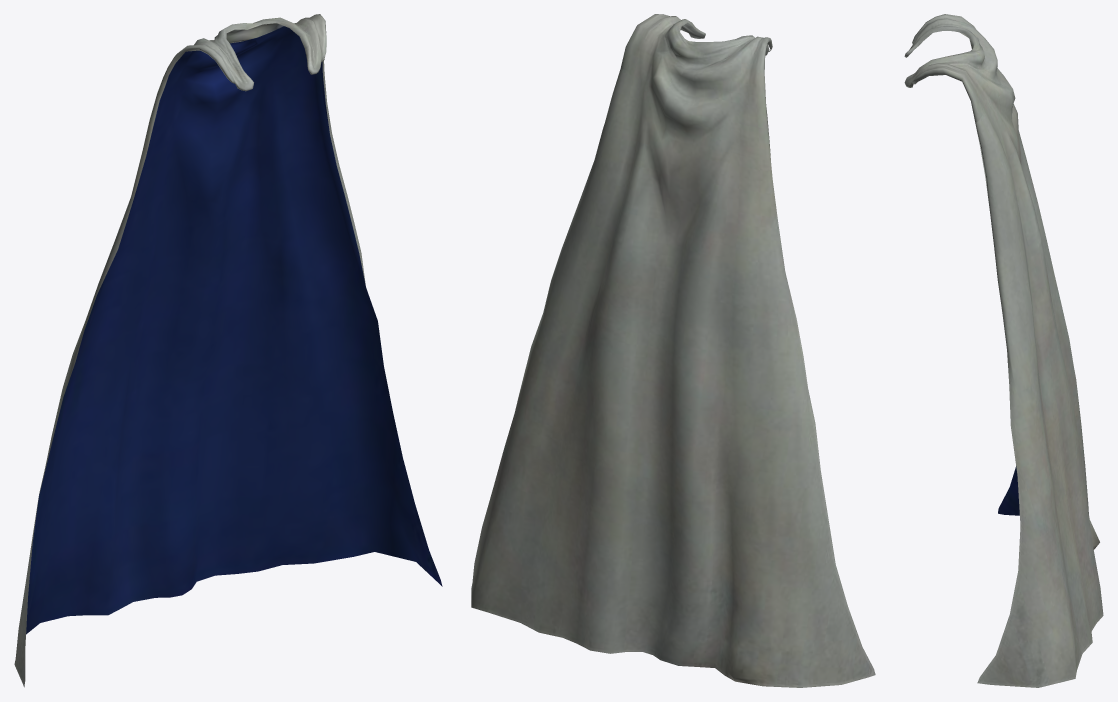
The model's file is outfit_cape.glb.
3 views of the same model, side by side, from view 1: azimuth 30°, elevation 25°; view 2: azimuth 150°, elevation 25°; view 3: azimuth 270°, elevation 25° (orthographic). The views are drawn at different scales.
Visible parts, largest first — view 1: outfit_cape; view 2: outfit_cape; view 3: outfit_cape.
Part boxes in pixels (bbox=[...]): outfit_cape: bbox=[14, 14, 442, 687]; outfit_cape: bbox=[471, 14, 875, 687]; outfit_cape: bbox=[904, 14, 1103, 687].
Size of the model in its own units: 0.2072 by 0.3 by 0.0958.
Materials: 1 (1 with a texture image).
